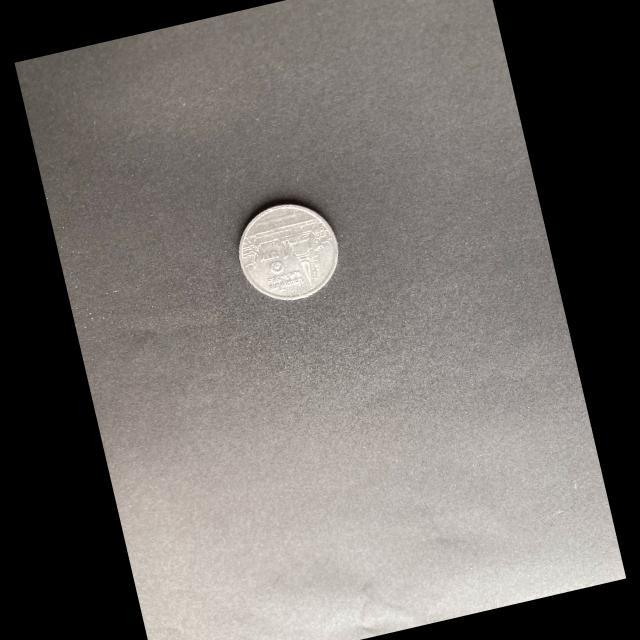1 Bath: (236, 202, 344, 307)
